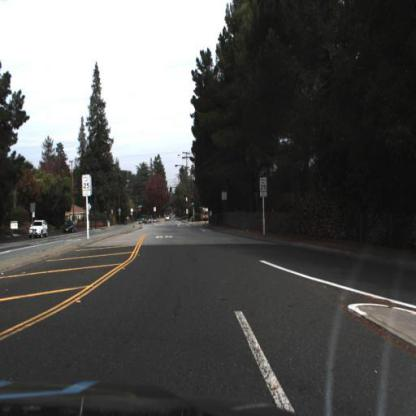car: (28, 216, 51, 241), (60, 218, 78, 236), (145, 215, 154, 227)
trafficLight-Green: (190, 196, 196, 209), (169, 185, 175, 197)
